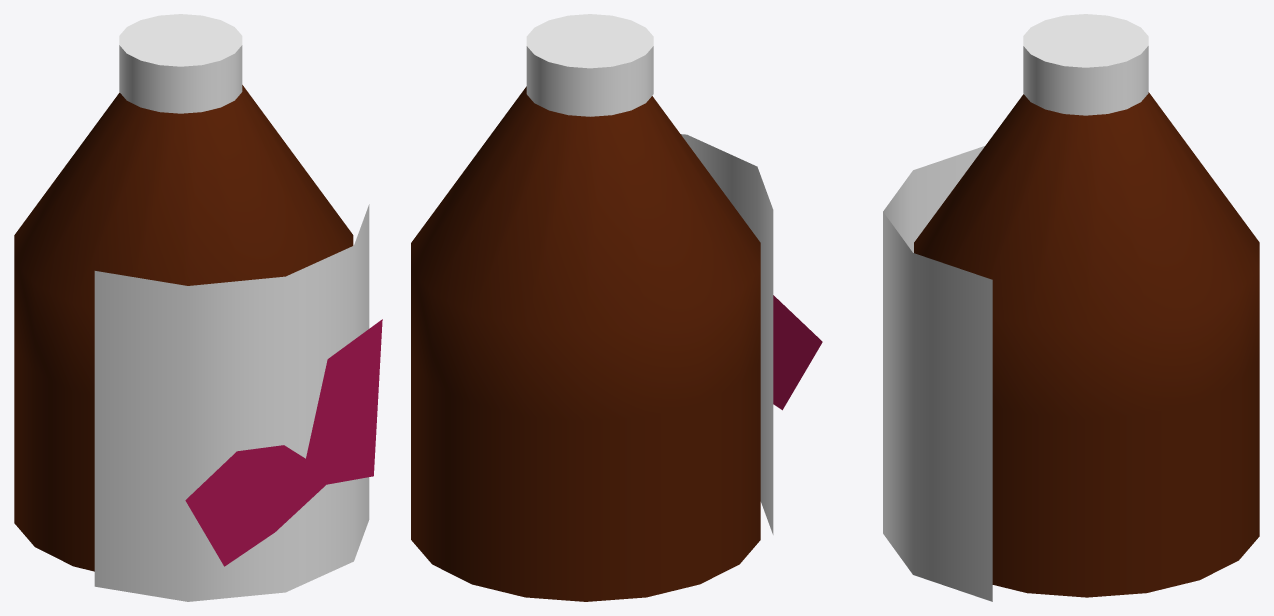
The model's file is muscle powder.FBX.
3 renders of one model, left to right at view 1: azimuth 30°, elevation 25°; view 2: azimuth 150°, elevation 25°; view 3: azimuth 270°, elevation 25°, orthographic. The views are drawn at different scales.
Visible parts, largest first — view 1: Plane002, Cylinder001, Plane001, Cylinder002; view 2: Cylinder001, Cylinder002, Plane002, Plane001; view 3: Cylinder001, Plane002, Cylinder002.
Part boxes in pixels (box(x1,y1,x2,y2)): Plane002: box(94, 204, 369, 601); Cylinder001: box(14, 85, 353, 571); Plane001: box(185, 319, 382, 566); Cylinder002: box(119, 14, 242, 113); Cylinder001: box(411, 86, 760, 601); Cylinder002: box(526, 14, 653, 116); Plane002: box(681, 134, 773, 534); Plane001: box(773, 295, 822, 410); Cylinder001: box(914, 92, 1259, 597); Plane002: box(883, 146, 992, 601); Cylinder002: box(1023, 14, 1148, 115).
Bounding box in the file's own units: 4.46 × 6.88 × 5.19.
